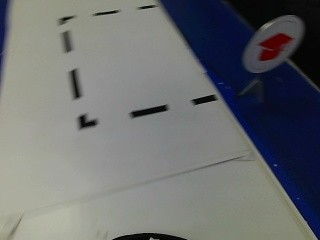school: (243, 16, 302, 74)
